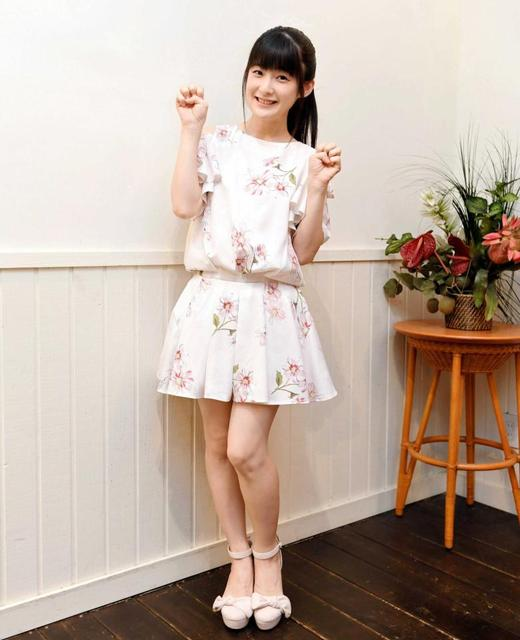face: (245, 59, 300, 117)
hand: (305, 143, 343, 192), (171, 85, 210, 128)
